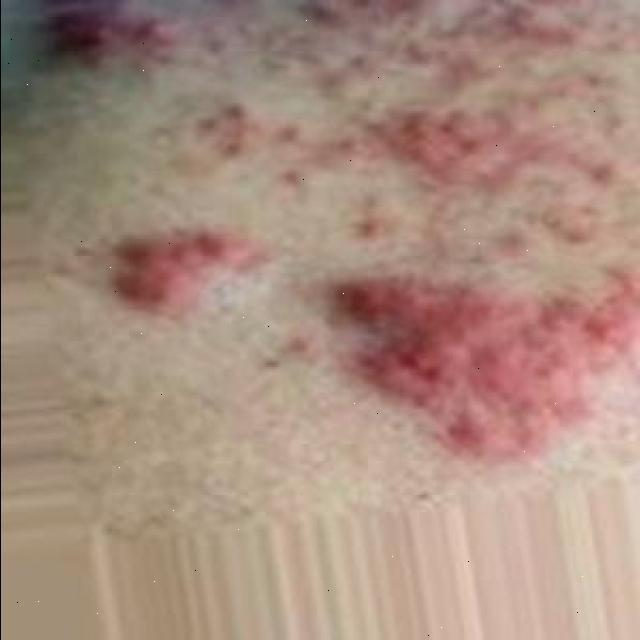Shingles: (38, 0, 640, 461)
